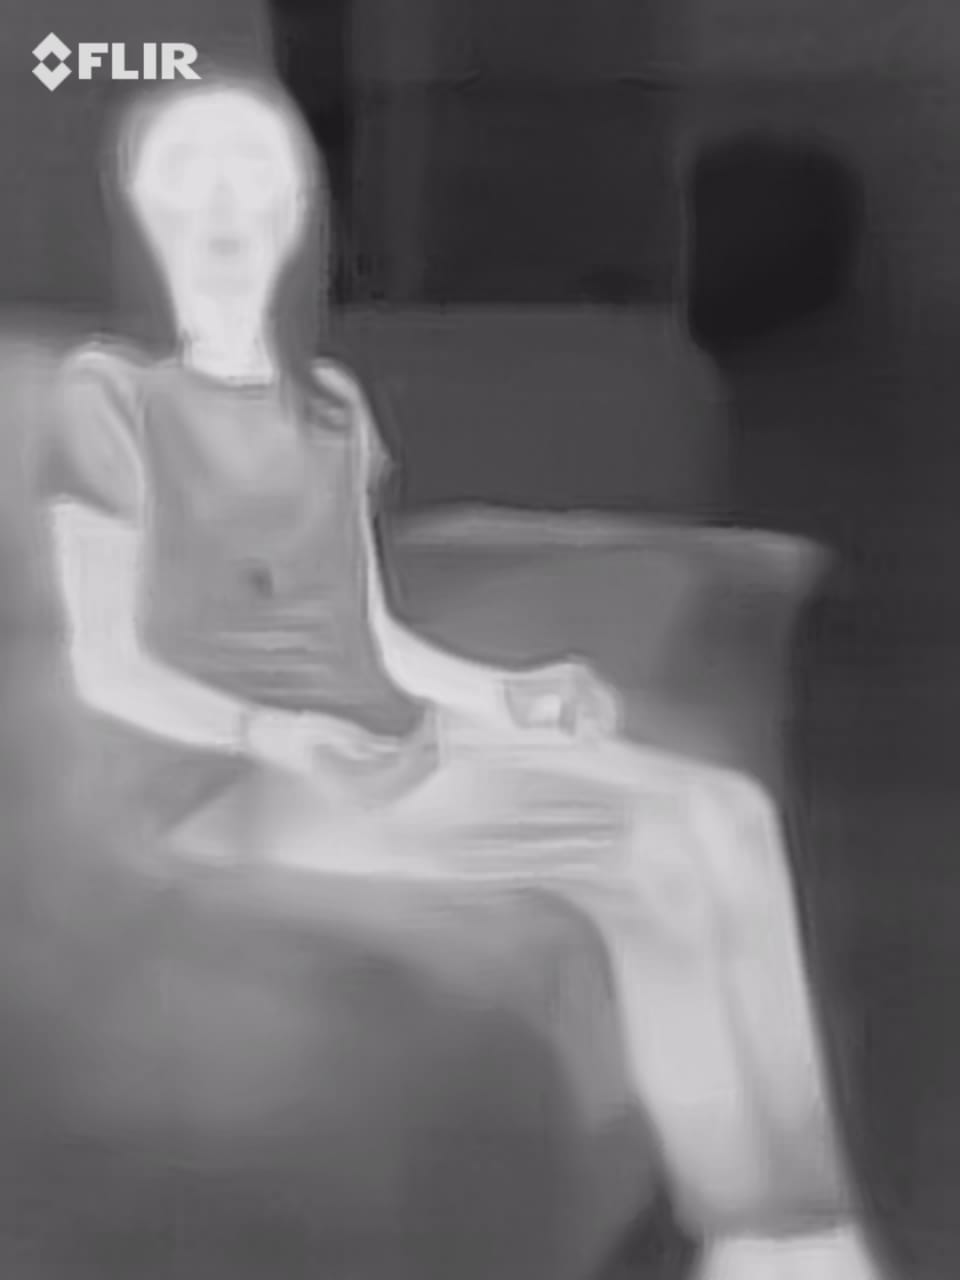head: (94, 54, 399, 388)
